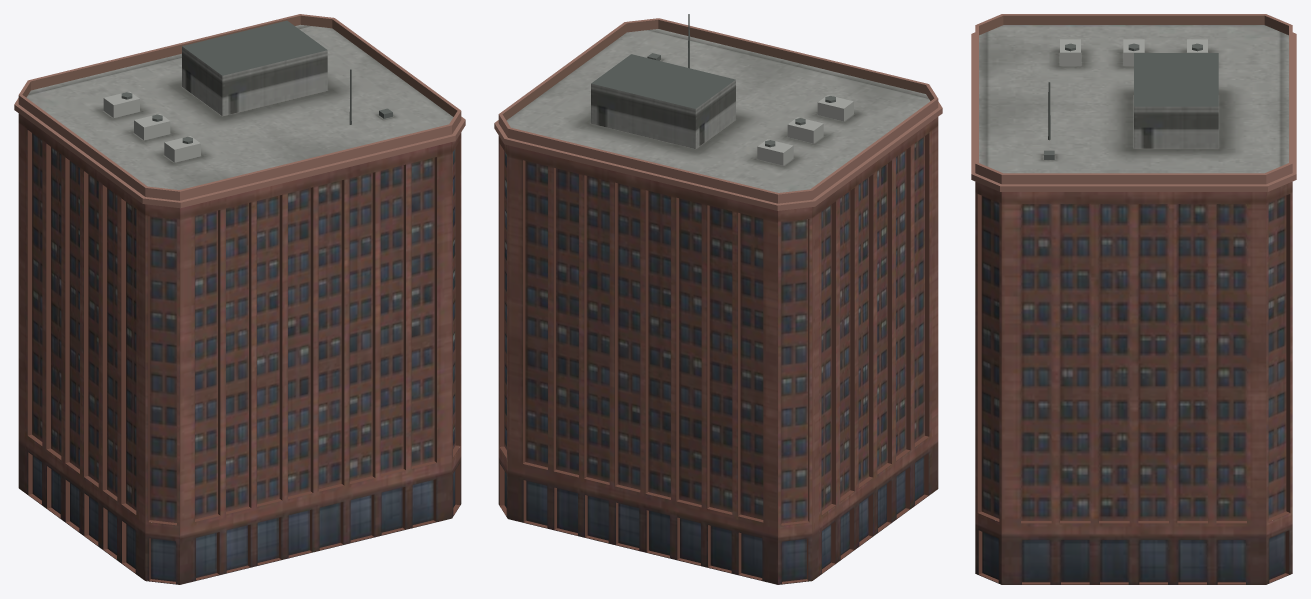
The model's file is dc_office_band_c.glb.
3 renders of one model, left to right at view 1: azimuth 30°, elevation 25°; view 2: azimuth 150°, elevation 25°; view 3: azimuth 270°, elevation 25°, orthographic. The views are drawn at different scales.
Parts seen in each view (by area): view 1: dc_office_band_c; view 2: dc_office_band_c; view 3: dc_office_band_c.
Boxes of the visible parts, x1=… form: dc_office_band_c: x1=14, y1=14, x2=465, y2=584; dc_office_band_c: x1=494, y1=14, x2=942, y2=584; dc_office_band_c: x1=971, y1=14, x2=1296, y2=584.
Bounding box in the file's own units: 36.8 × 47.8 × 30.8.
Materials: 1 (1 with a texture image).
